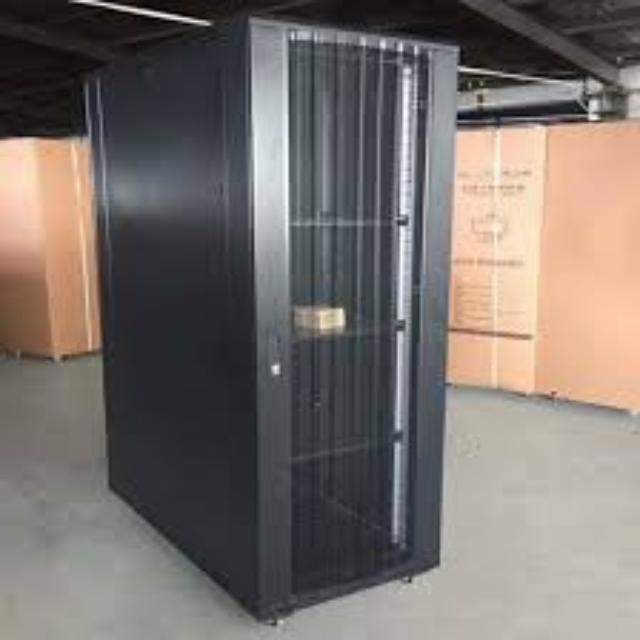Server: (181, 2, 453, 640)
